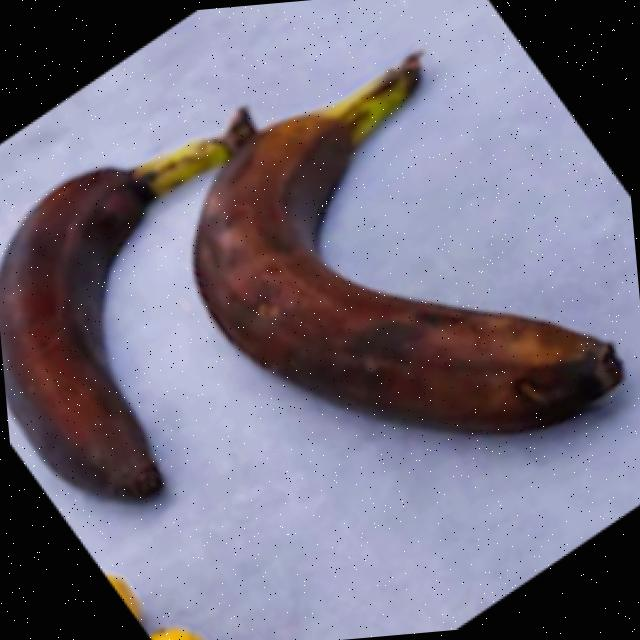Rotten: (156, 36, 640, 467), (0, 93, 279, 535)
